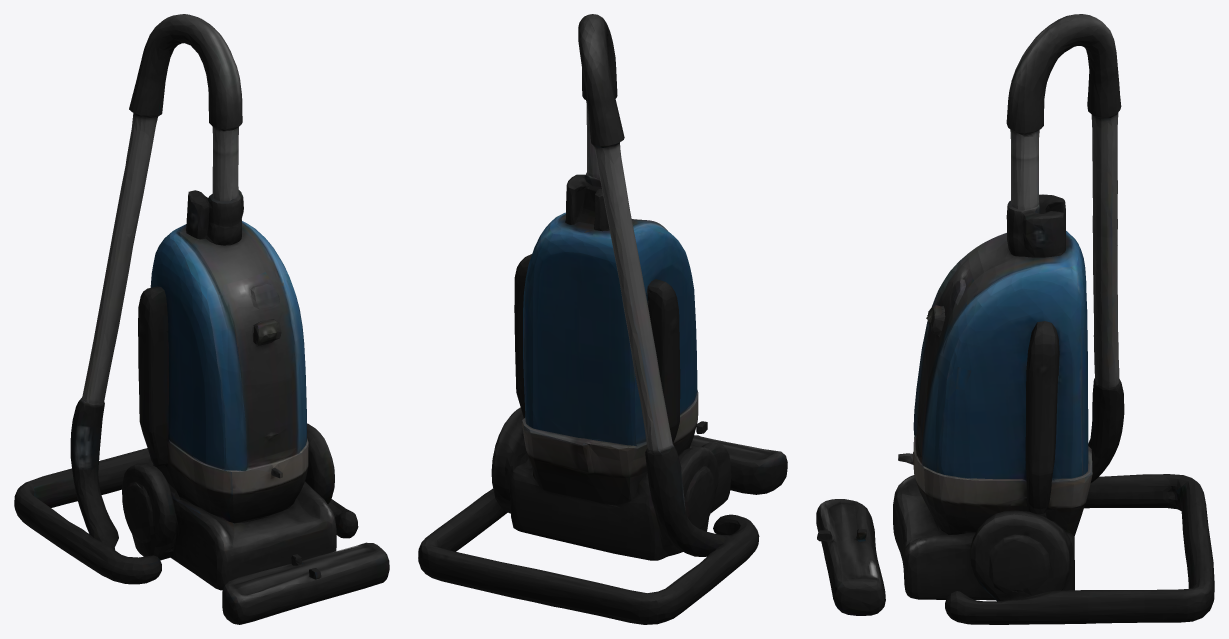
Rendered from vacuum.glb.
3 views of the same model, side by side, from view 1: azimuth 30°, elevation 25°; view 2: azimuth 150°, elevation 25°; view 3: azimuth 270°, elevation 25° (orthographic). The views are drawn at different scales.
Parts seen in each view (by area): view 1: world; view 2: world; view 3: world.
Part boxes in pixels (x1=…): world: x1=14, y1=14, x2=389, y2=624; world: x1=418, y1=14, x2=787, y2=624; world: x1=816, y1=14, x2=1214, y2=624.
Bounding box in the file's own units: 0.4934 × 0.9947 × 0.6497.
Materials: 1 (1 with a texture image).
